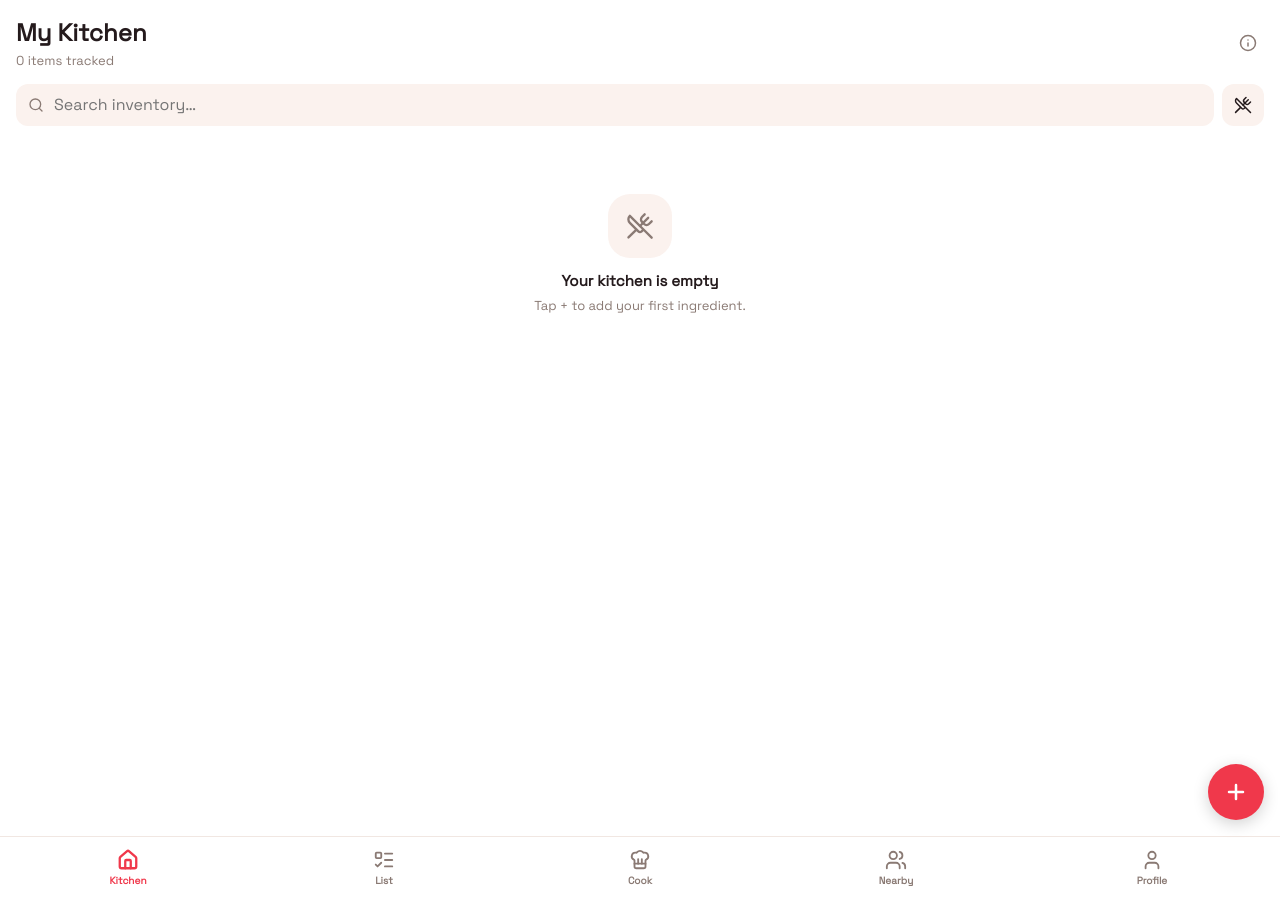
Scenario: App smoke › shows the Profile tab with a language picker and no logout in local mode
This screenshot has width=1280, height=900.
Expected: the heading "My Kitchen" is shown, [16, 16, 147, 50]
Click the button "Profile" at {"x": 1152, "y": 868}, box [1024, 845, 1279, 892]
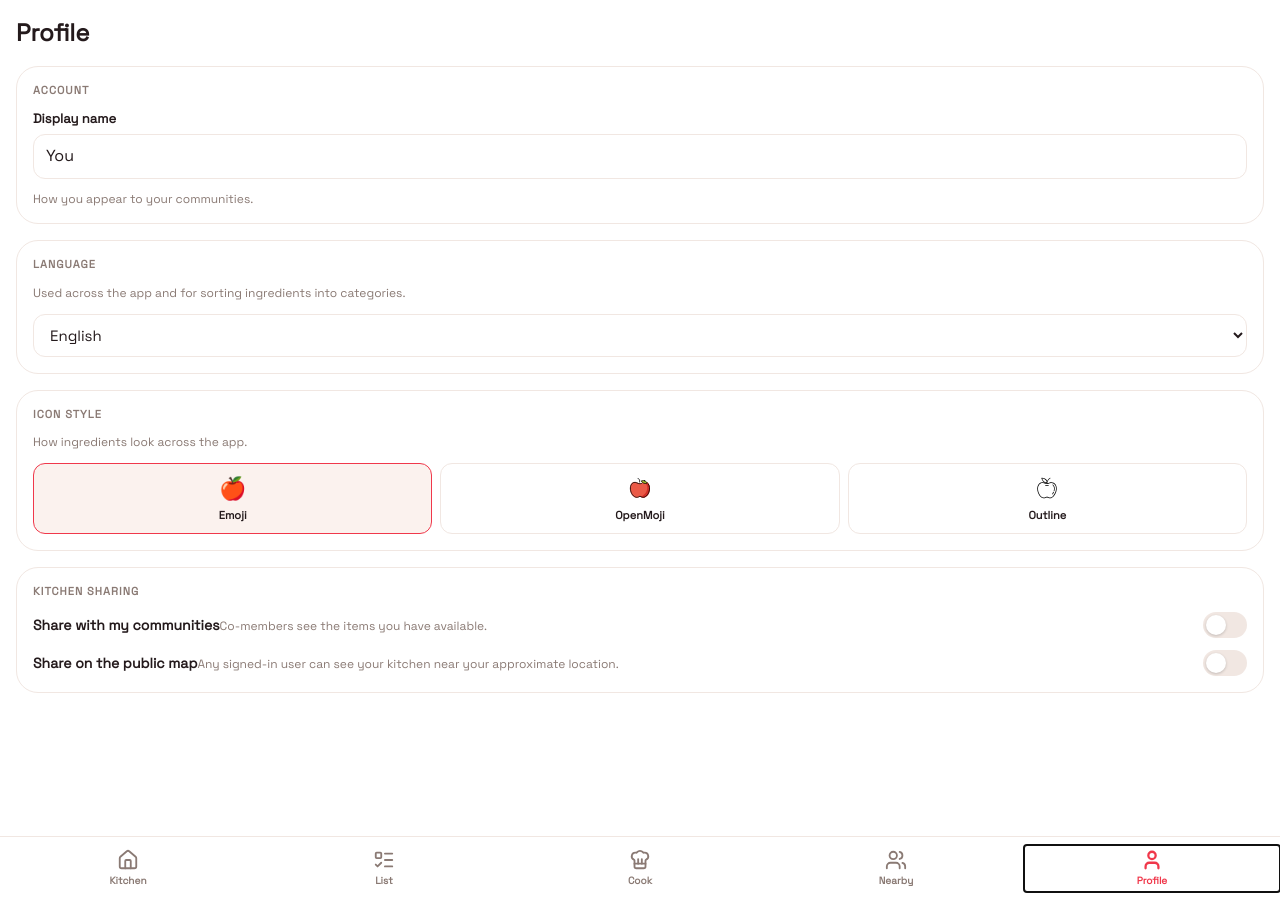
Result: the heading "Profile" is shown at [16, 17, 89, 48]
Result: the dropdown named "language" is shown at [33, 314, 1247, 356]
